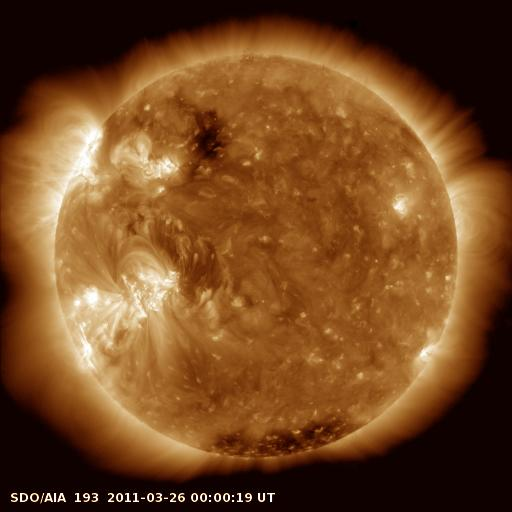coronal_hole: (190, 414, 359, 467), (184, 102, 236, 167)
